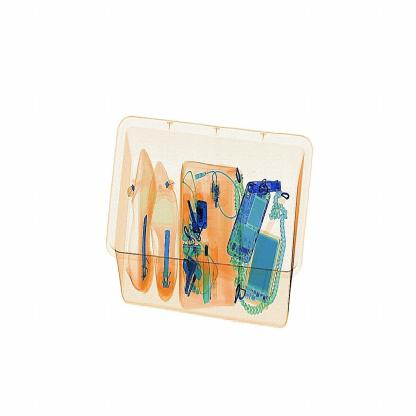knife: (243, 170, 294, 203)
